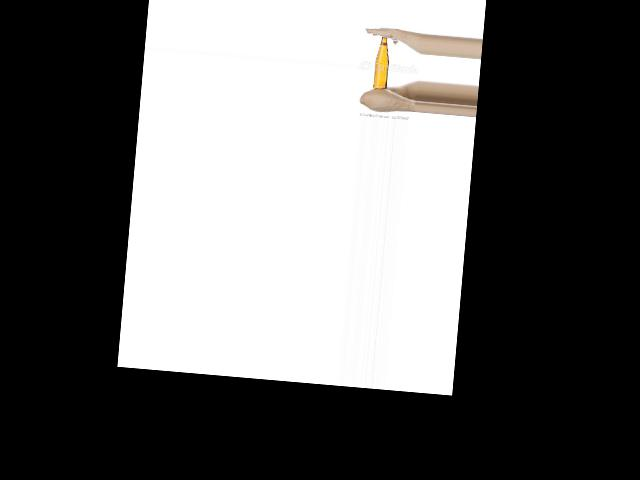beer: (373, 35, 392, 89)
